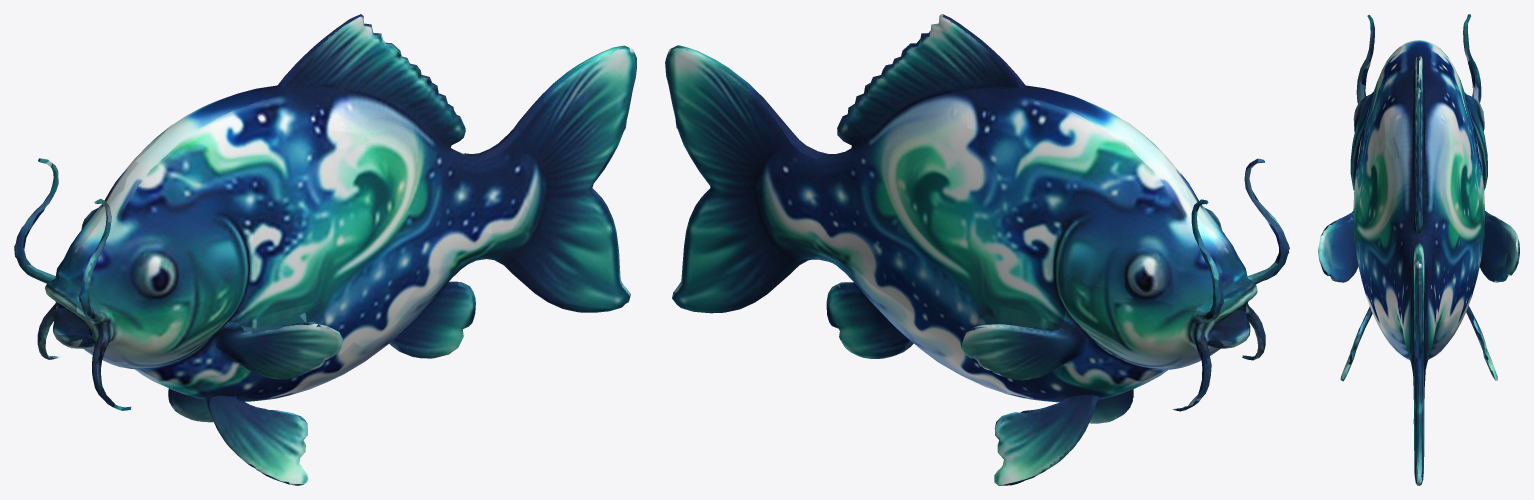
Rendered from fish_earthlight_trout.glb.
3 renders of one model, left to right at view 1: azimuth 30°, elevation 25°; view 2: azimuth 150°, elevation 25°; view 3: azimuth 270°, elevation 25°, orthographic. The views are drawn at different scales.
Parts seen in each view (by area): view 1: fish_earthlight_trout; view 2: fish_earthlight_trout; view 3: fish_earthlight_trout.
Boxes of the visible parts, <box> form: fish_earthlight_trout: <box>14,14,636,485</box>; fish_earthlight_trout: <box>665,14,1289,485</box>; fish_earthlight_trout: <box>1318,14,1519,485</box>.
Size of the model in its own units: 1 by 0.6714 by 0.3345.
1 material, 1 textured.
